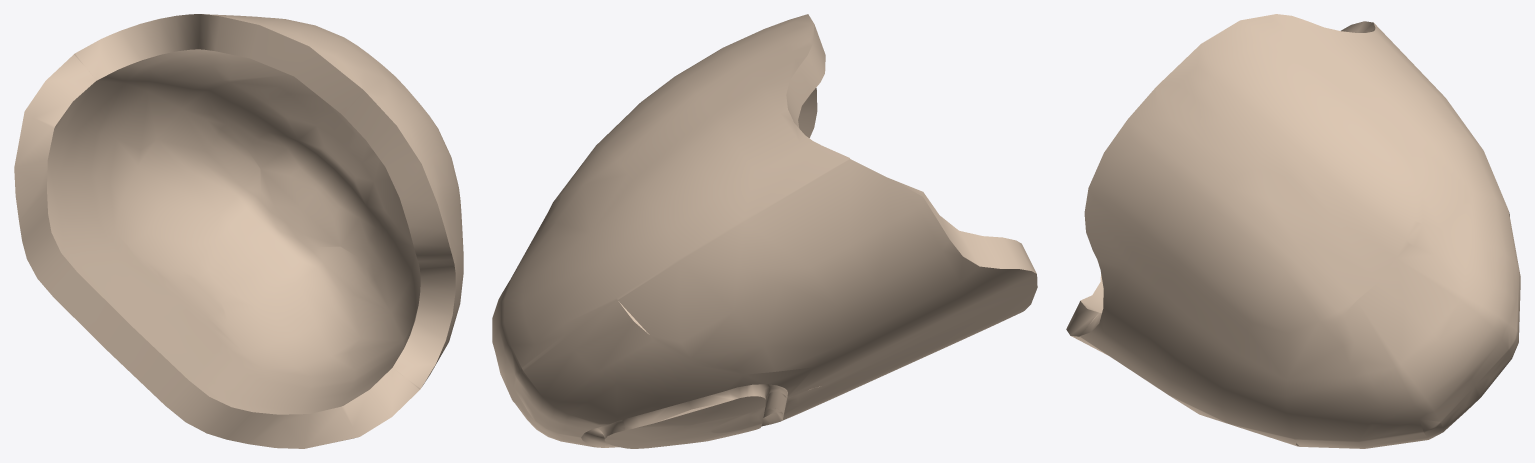
The model's file is r_hand_TD_0.obj.
3 renders of one model, left to right at view 1: azimuth 30°, elevation 25°; view 2: azimuth 150°, elevation 25°; view 3: azimuth 270°, elevation 25°, orthographic. The views are drawn at different scales.
Bounding box in the file's own units: 29.56 × 25.72 × 28.61.
